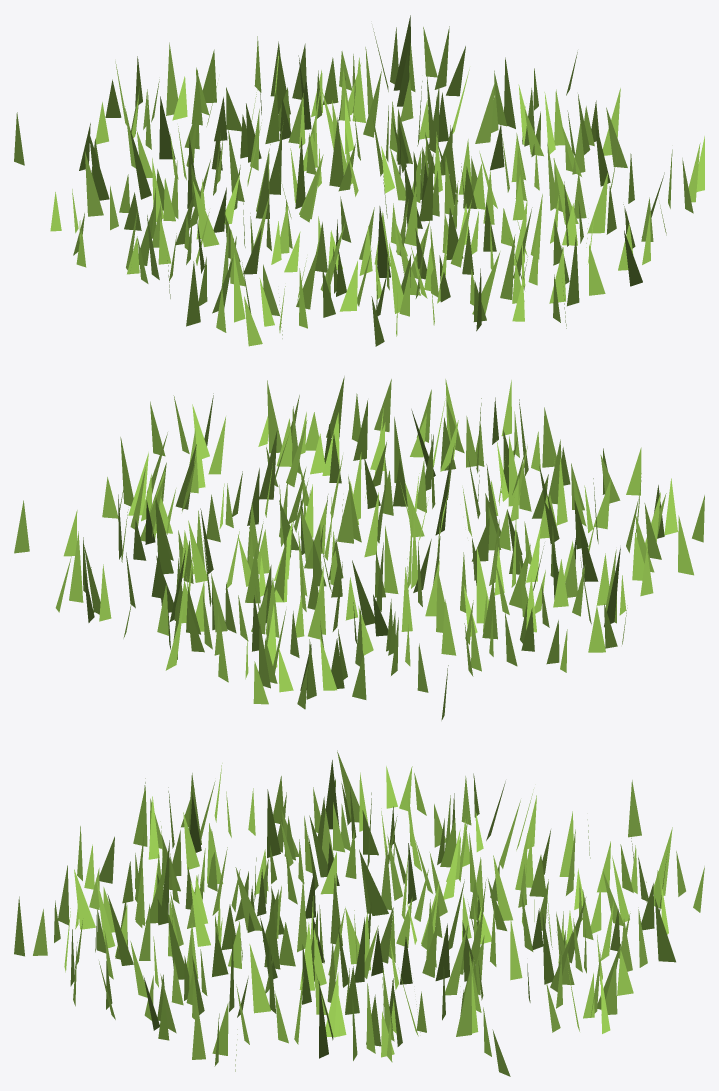
Rendered from GrassB.glb.
3 renders of one model, top to bottom at view 1: azimuth 30°, elevation 25°; view 2: azimuth 150°, elevation 25°; view 3: azimuth 270°, elevation 25°, orthographic.
Visible parts, largest first — view 1: GrassB.bladesMid, GrassB.bladesDark, GrassB.bladesLight; view 2: GrassB.bladesMid, GrassB.bladesDark, GrassB.bladesLight; view 3: GrassB.bladesMid, GrassB.bladesDark, GrassB.bladesLight.
Part boxes in pixels (x1,y1,x2,y2): GrassB.bladesMid: (72,26,700,346); GrassB.bladesDark: (14,15,693,331); GrassB.bladesLight: (50,27,704,338); GrassB.bladesMid: (63,376,704,704); GrassB.bladesDark: (14,379,638,720); GrassB.bladesLight: (55,379,693,692); GrassB.bladesMid: (14,772,704,1066); GrassB.bladesDark: (33,750,685,1076); GrassB.bladesLight: (54,763,668,1071).
Size of the model in its own units: 5.61 by 0.699 by 6.06.
